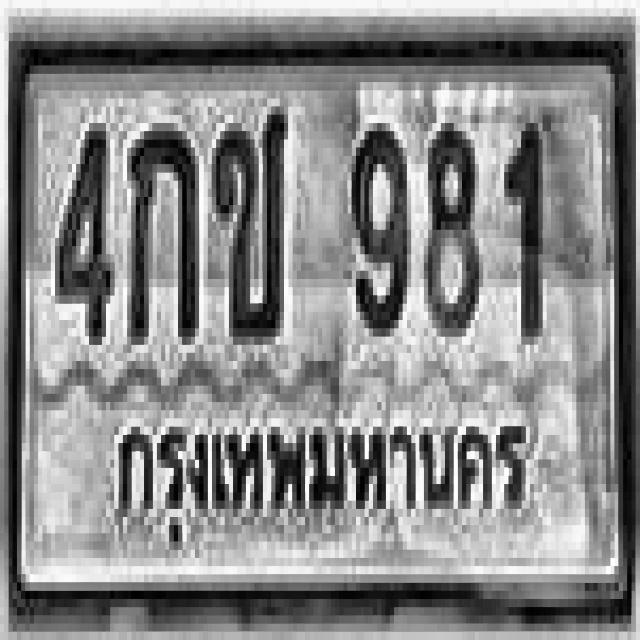license-plate: (21, 62, 622, 597)
